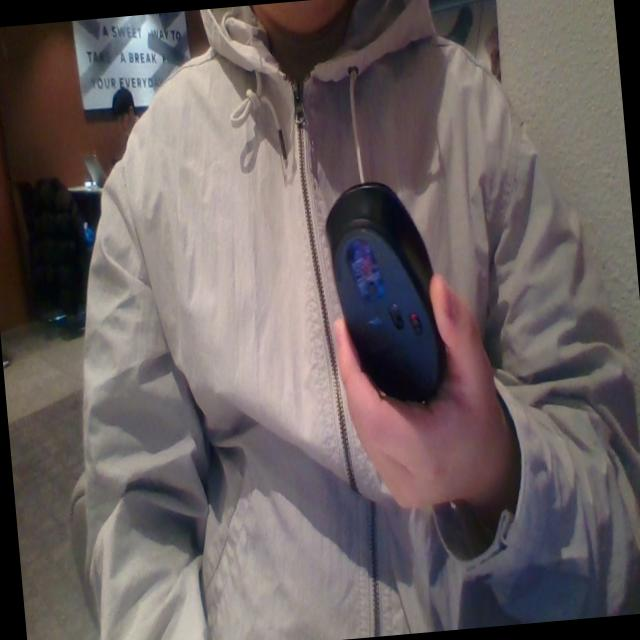grab_mouse: (314, 132, 512, 537)
mouse: (321, 174, 452, 387)
